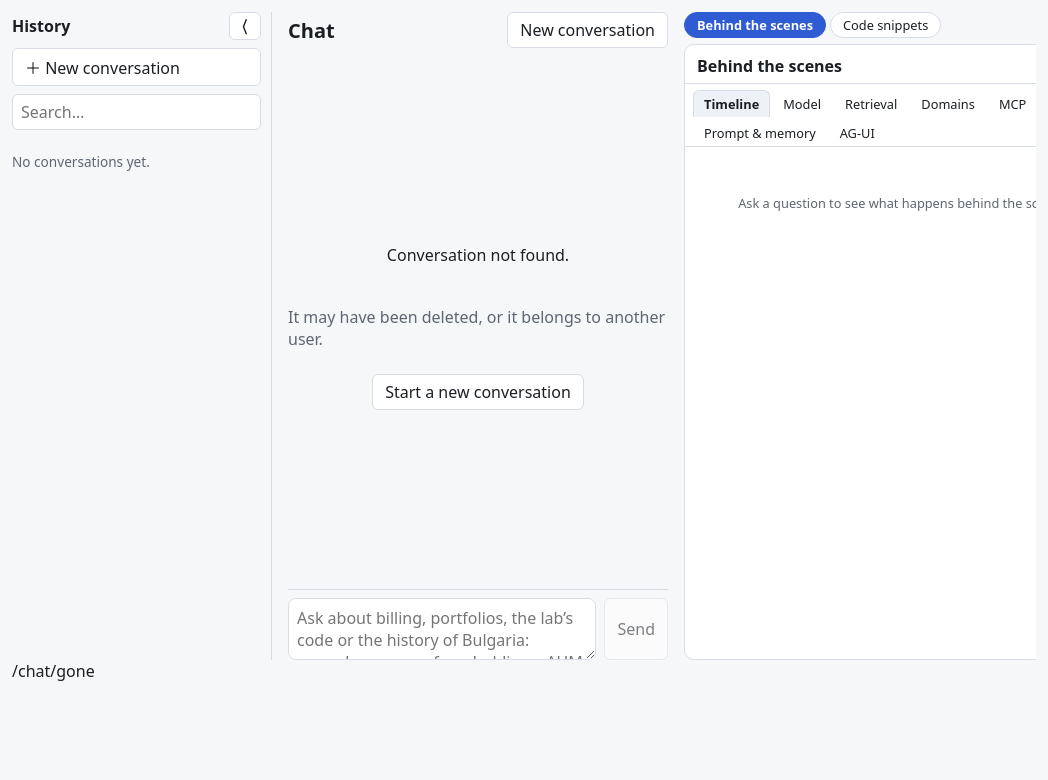
Scenario: ChatPage with history › shows "Conversation not found" for an unknown or deleted id
This screenshot has width=1048, height=780.
Expected: the text "Conversation not found." is shown, [387,244,569,266]
Click the button "Start a new conversation": click(478, 392) [372,374,584,410]
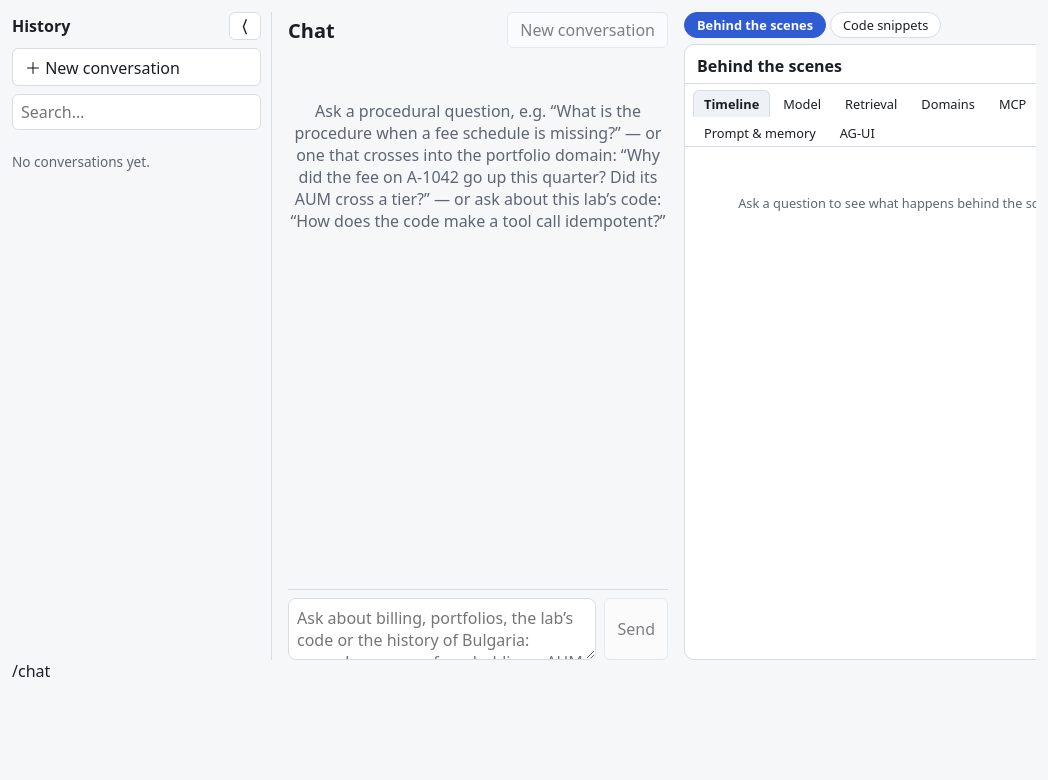
Expected: the text with test id "location" reads "/chat", [12,660,50,682]
Result: the text "Conversation not found." is gone
